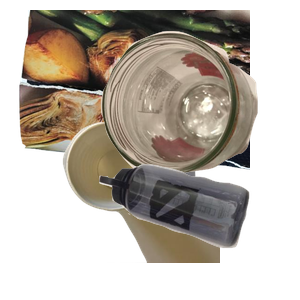glass: (98, 29, 300, 198)
paper: (16, 10, 256, 172)
plastic: (97, 162, 300, 300)
trash: (60, 120, 300, 300)
